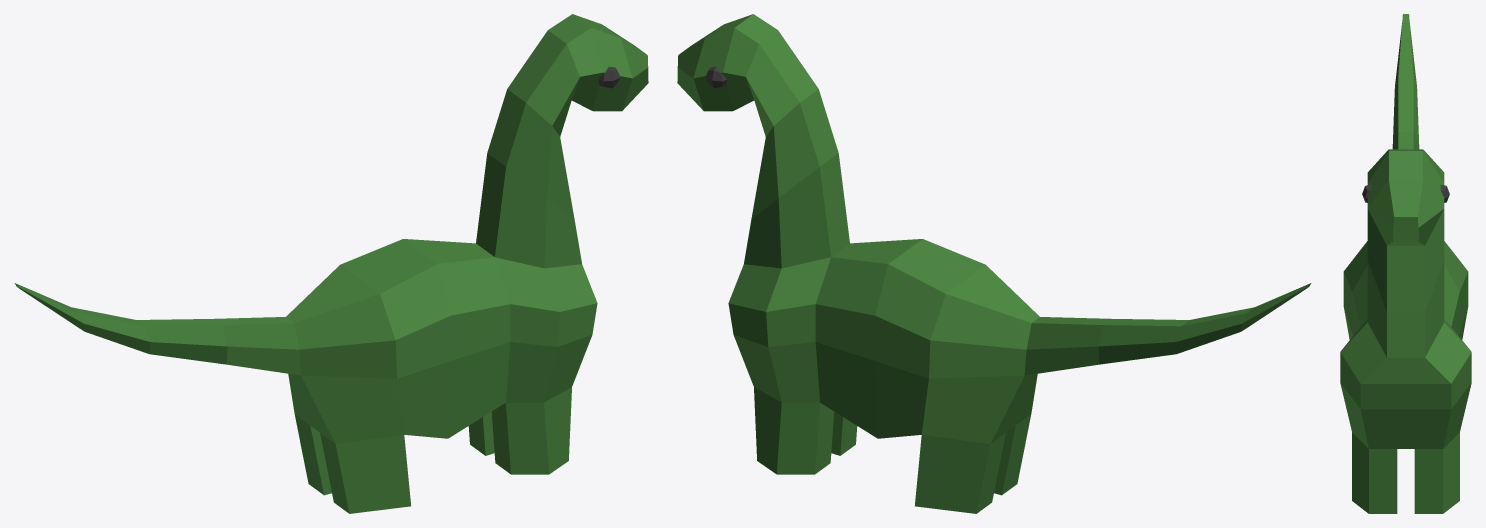
Rendered from Dinosaur.fbx.
3 renders of one model, left to right at view 1: azimuth 30°, elevation 25°; view 2: azimuth 150°, elevation 25°; view 3: azimuth 270°, elevation 25°, orthographic. The views are drawn at different scales.
Visible parts, largest first — view 1: Dinosaur; view 2: Dinosaur; view 3: Dinosaur.
Part boxes in pixels (left/top/right/bottom): Dinosaur: left=14, top=14, right=648, bottom=513; Dinosaur: left=677, top=14, right=1311, bottom=513; Dinosaur: left=1340, top=14, right=1471, bottom=513.
Size of the model in its own units: 97.95 by 19.7 by 62.42.
